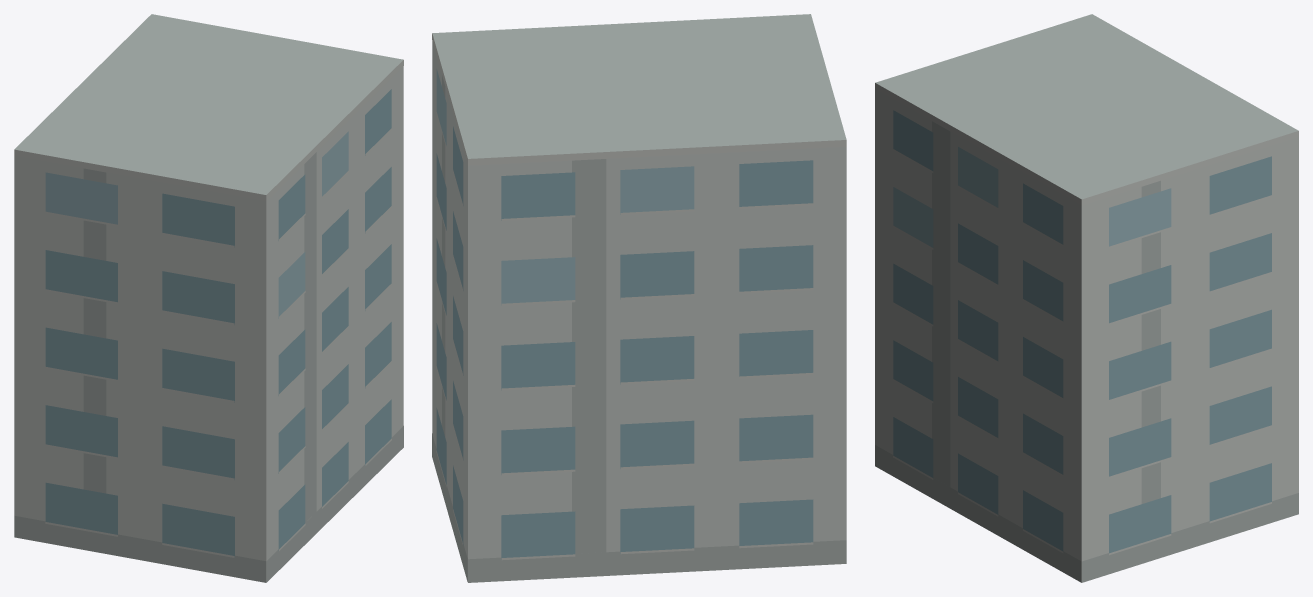
Rendered from residential-bea0c76f-5a38-494d-8ba9-d4e1d0b49793.glb.
3 renders of one model, left to right at view 1: azimuth 30°, elevation 25°; view 2: azimuth 150°, elevation 25°; view 3: azimuth 270°, elevation 25°, orthographic. The views are drawn at different scales.
Parts seen in each view (by area): view 1: residential-bea0c76f-5a38-494d-8ba9-d4e1d0b49793.tmp; view 2: residential-bea0c76f-5a38-494d-8ba9-d4e1d0b49793.tmp; view 3: residential-bea0c76f-5a38-494d-8ba9-d4e1d0b49793.tmp.
Boxes of the visible parts, x1,y1,x2,y2 form: residential-bea0c76f-5a38-494d-8ba9-d4e1d0b49793.tmp: [14, 14, 403, 582]; residential-bea0c76f-5a38-494d-8ba9-d4e1d0b49793.tmp: [432, 14, 846, 582]; residential-bea0c76f-5a38-494d-8ba9-d4e1d0b49793.tmp: [875, 14, 1298, 582].
Bounding box in the file's own units: 15.51 × 14.95 × 14.98.
